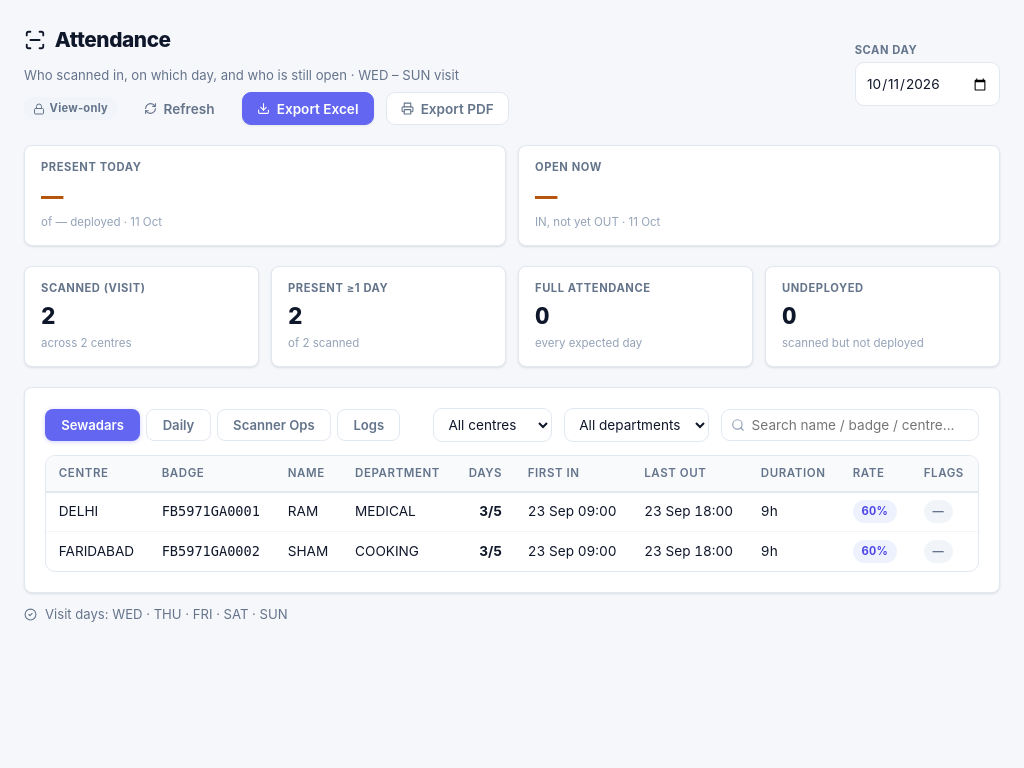
Scenario: A11 — an RPC failure renders an error state, never a silent empty visit › degrades only the Daily tab when attendance_daily_summary fails
Expected: the text "RAM" is shown, [275, 492, 342, 532]
Step 1. Click the button "Daily" → (179, 425), box [146, 408, 211, 441]
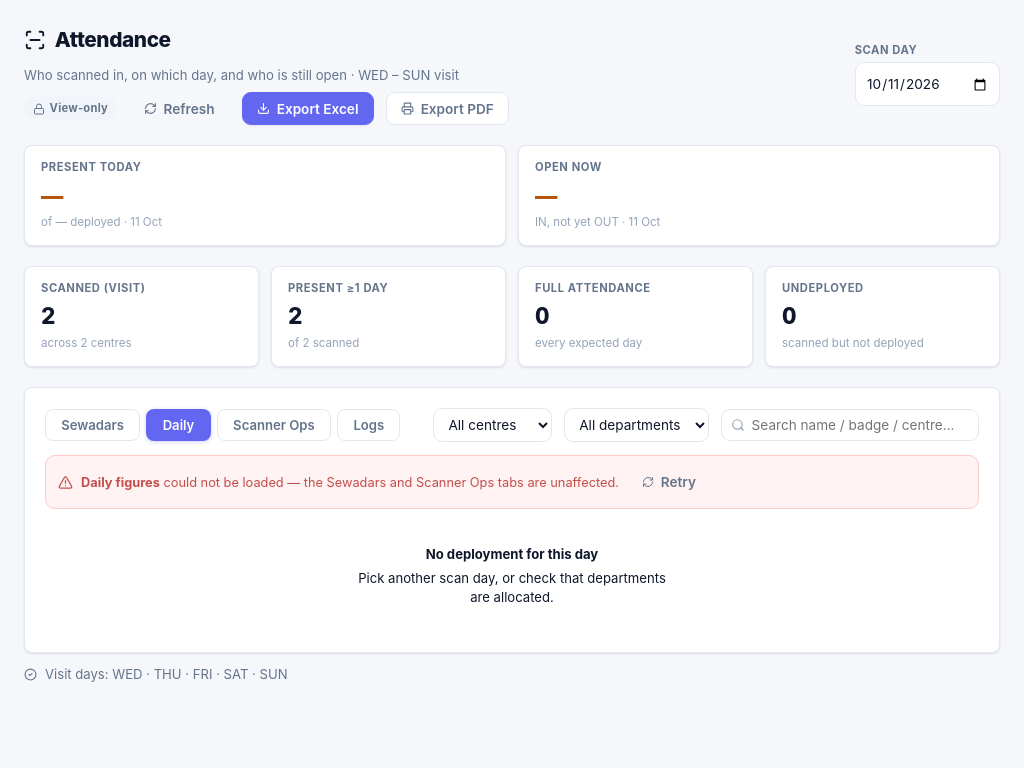
Now the text "Daily figures" is shown, box [81, 475, 160, 490]
Now the button "Retry" is shown
Step 2. Click the button "Retry" → (669, 482), box [627, 466, 711, 498]
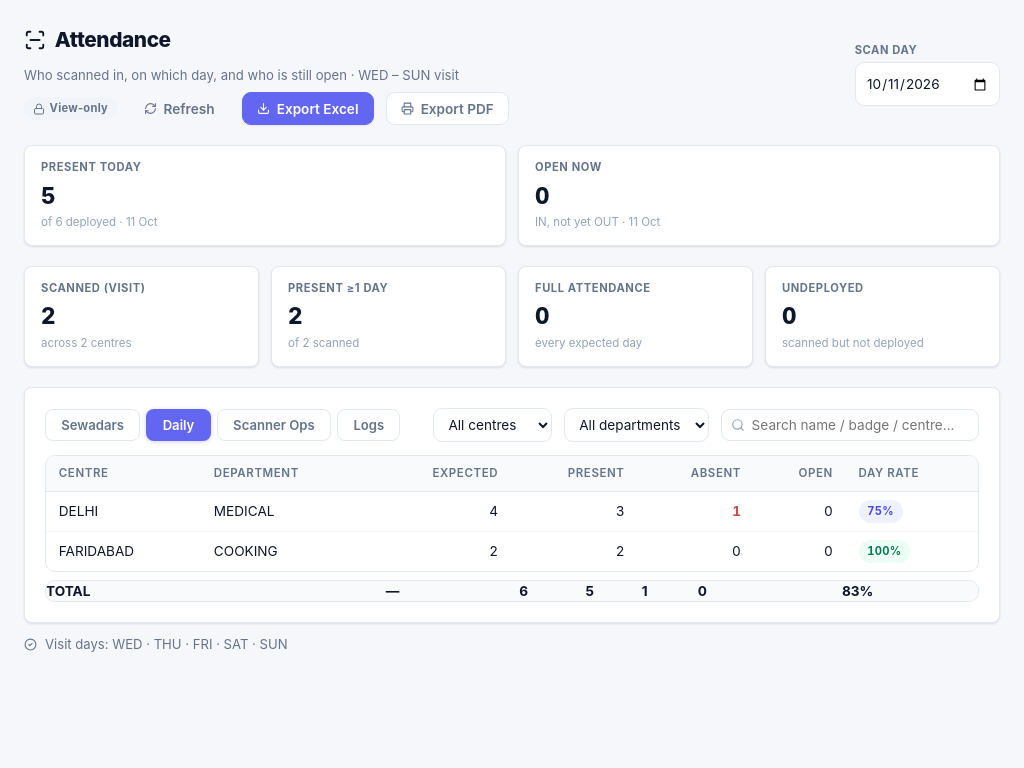
Now the message is gone
Now the row "DELHI MEDICAL 4 3 1 0 75%" is shown, box [46, 492, 978, 532]
